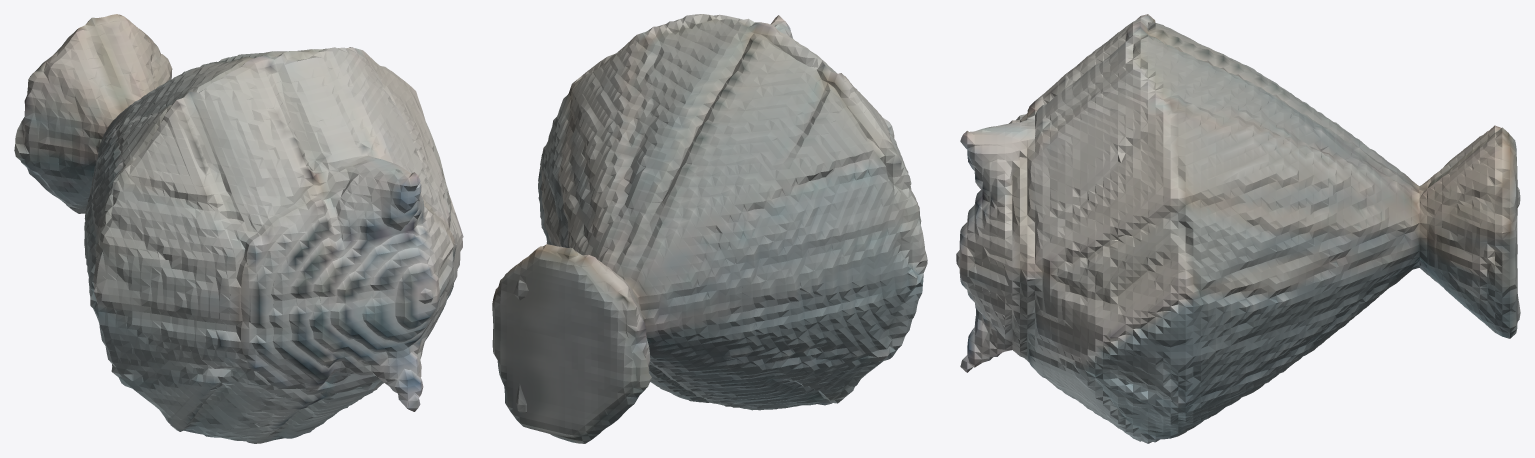
3 renders of one model, left to right at view 1: azimuth 30°, elevation 25°; view 2: azimuth 150°, elevation 25°; view 3: azimuth 270°, elevation 25°, orthographic.
Parts seen in each view (by area): view 1: world; view 2: world; view 3: world.
Part boxes in pixels (x1=…): world: x1=14, y1=14, x2=463, y2=443; world: x1=492, y1=14, x2=927, y2=443; world: x1=956, y1=14, x2=1520, y2=443.
Bounding box in the file's own units: 0.772 × 0.7783 × 1.03.
